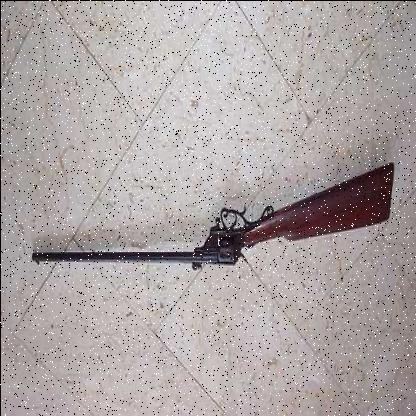rifle: (22, 136, 400, 287)
